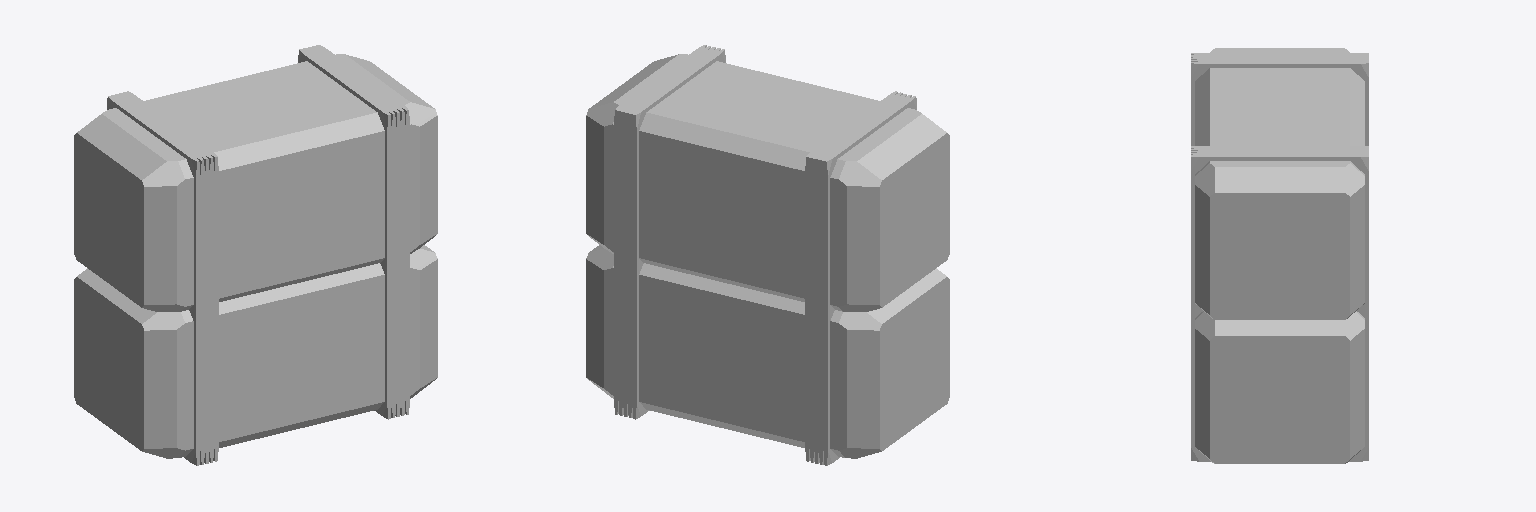
File: HayBale.obj
3 renders of one model, left to right at view 1: azimuth 30°, elevation 25°; view 2: azimuth 150°, elevation 25°; view 3: azimuth 270°, elevation 25°, orthographic.
Visible parts, largest first — view 1: pCube5; view 2: pCube5; view 3: pCube5.
Boxes of the visible parts, x1=… form: pCube5: x1=74, y1=45, x2=437, y2=465; pCube5: x1=586, y1=45, x2=949, y2=465; pCube5: x1=1191, y1=48, x2=1368, y2=463.
Size of the model in its own units: 2.2 by 2.18 by 1.16.